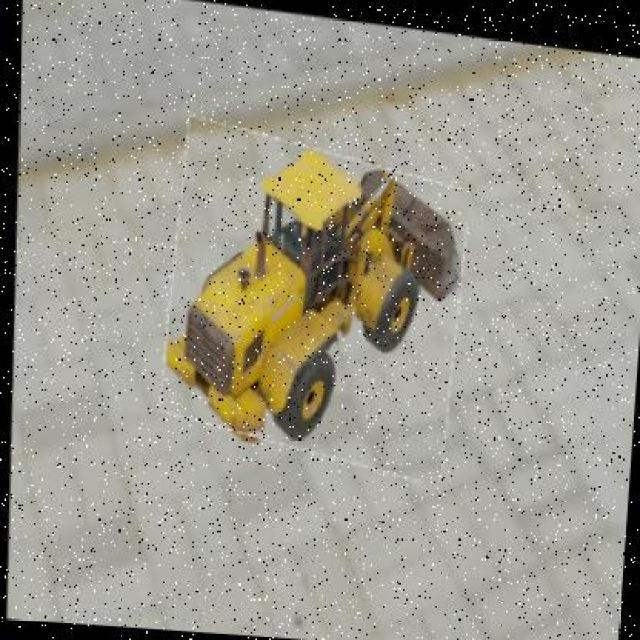buldozerpayloadergrader: (162, 137, 470, 446)
